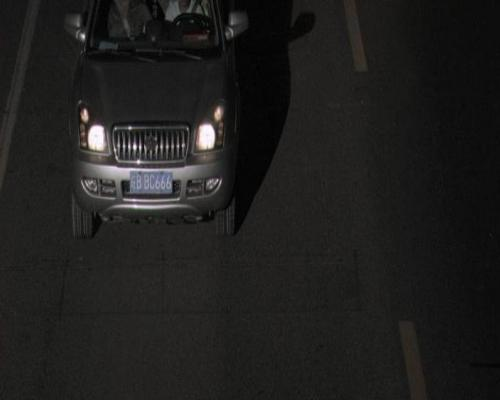Carplate: (126, 164, 175, 200)
